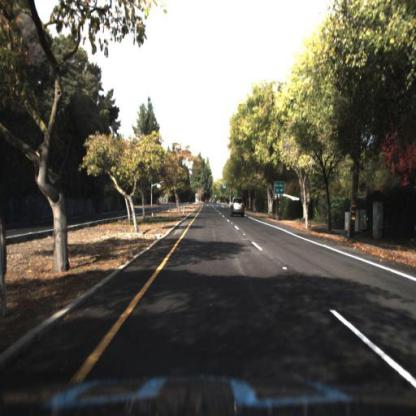car: (231, 198, 246, 219)
